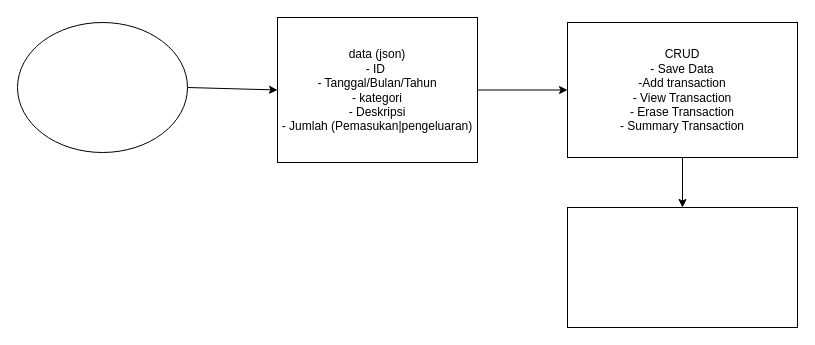
This 815x345 diagram has some shape labels left out. The shapes that lost their labels are listed below. From the top down, each one's centre as x and y in pixels, then its label:
At [102,87]: "setup".
At [682,267]: "CLI MENU".
